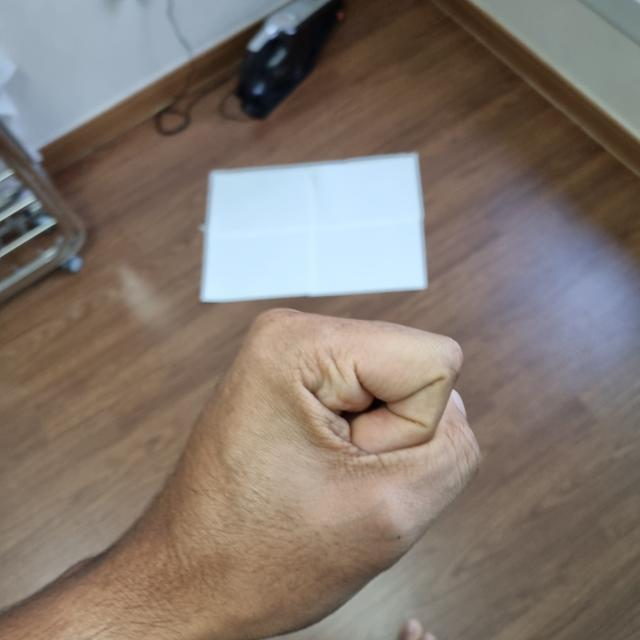Rock: (145, 312, 473, 638)
